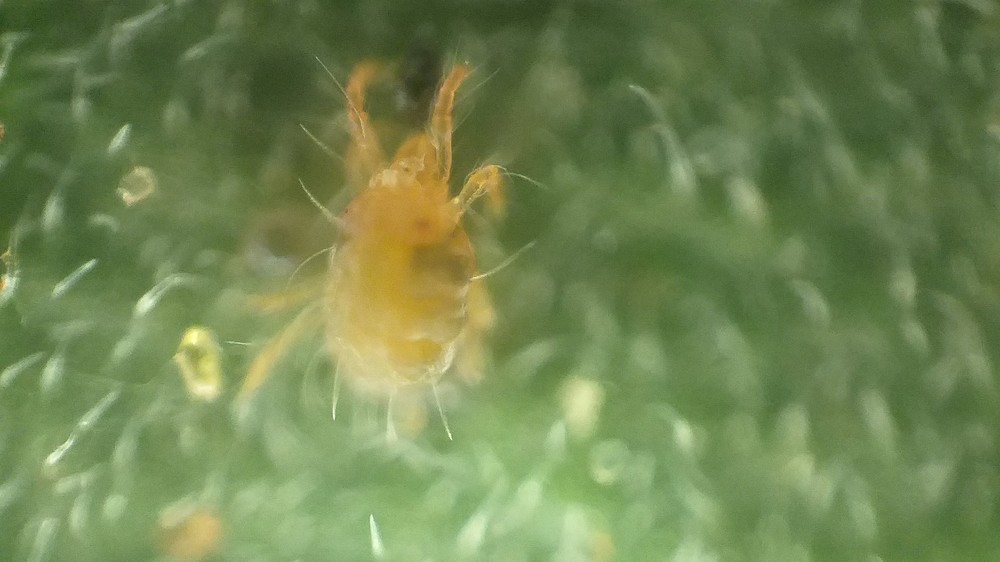Aracnido Rojo: (236, 62, 542, 478)
